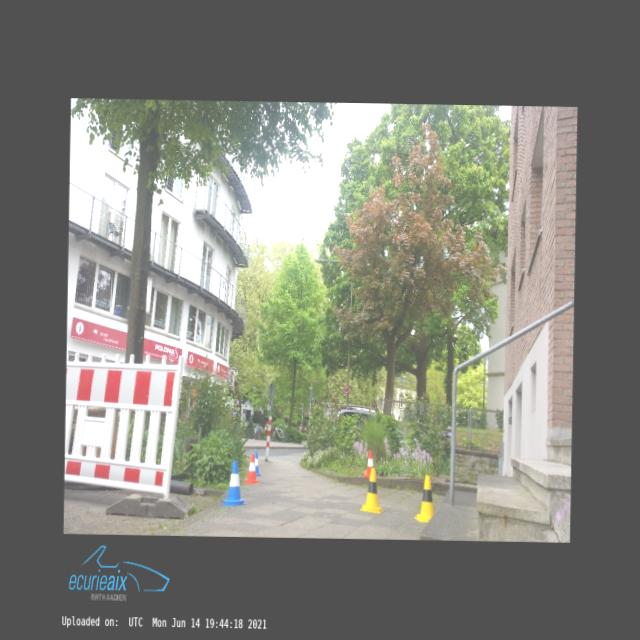blue_cone: (220, 461, 247, 506), (254, 452, 260, 476)
orange_cone: (244, 454, 259, 484), (364, 450, 376, 478)
yellow_cone: (359, 468, 384, 513), (414, 474, 434, 522)
